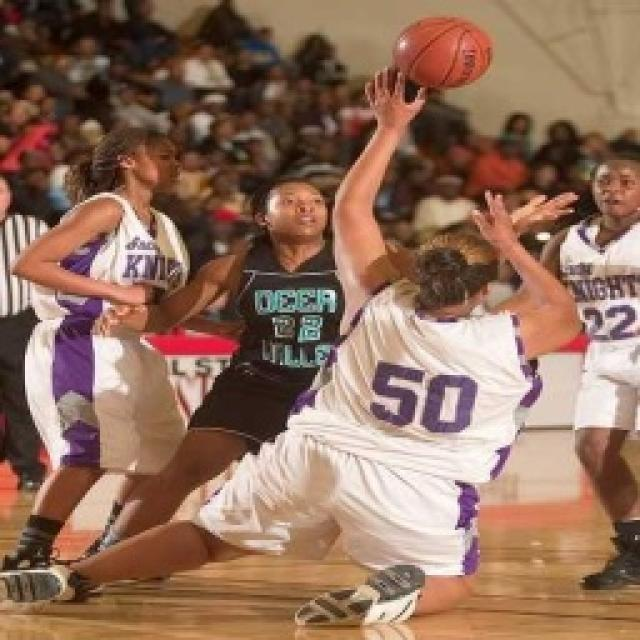rim: (386, 7, 502, 99)
